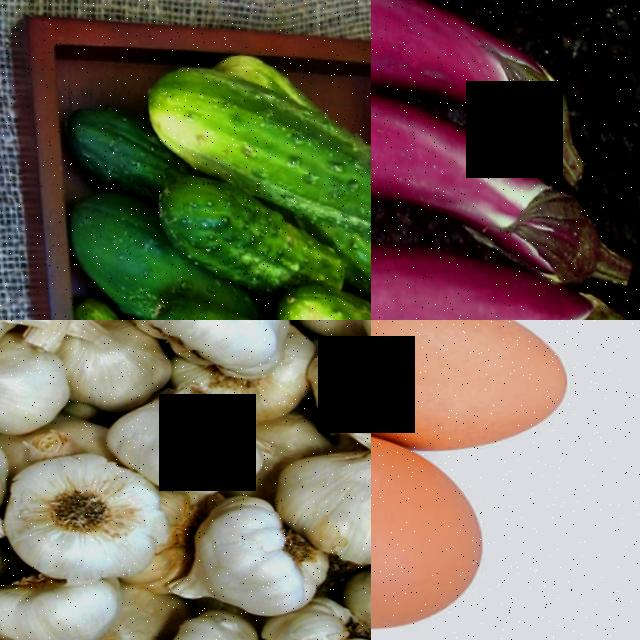cucumber: (142, 42, 371, 188), (154, 157, 340, 282), (66, 175, 172, 313), (152, 280, 306, 320), (276, 269, 371, 320)
egg_: (371, 410, 502, 640), (371, 320, 581, 453)
eggplant: (371, 68, 618, 307), (371, 0, 558, 128), (371, 235, 634, 320)
garlic: (0, 438, 174, 588), (178, 480, 318, 617), (112, 375, 266, 493), (283, 430, 371, 567), (138, 320, 305, 378), (0, 338, 78, 442), (304, 329, 371, 442)
